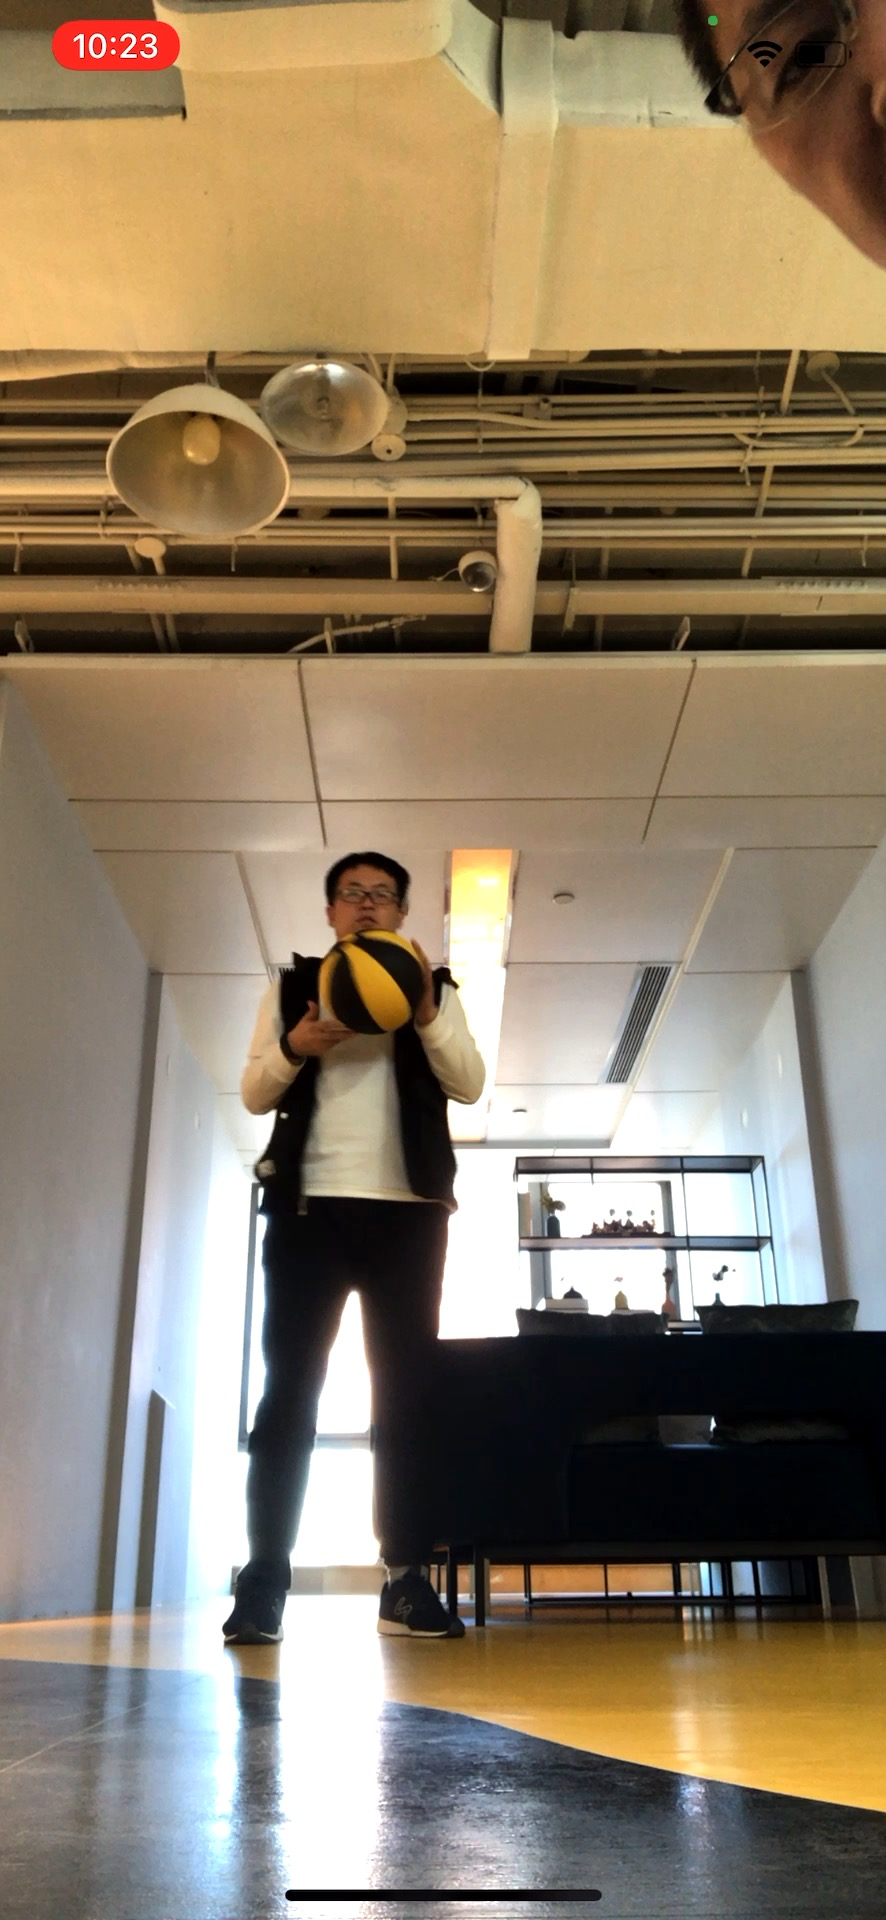ball: (316, 931, 425, 1041)
